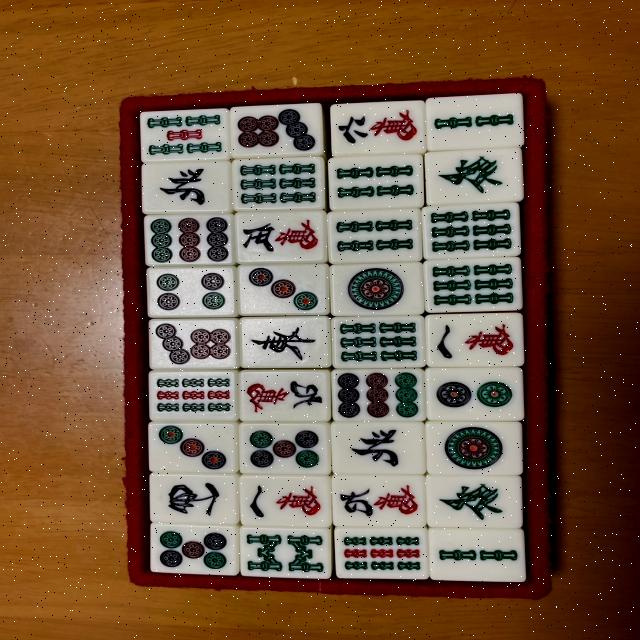bamboos_2: (425, 92, 526, 152), (428, 528, 527, 581)
bamboos_4: (324, 153, 424, 209), (327, 207, 422, 265)
bamboos_5: (140, 108, 232, 162)
bamboos_6: (423, 255, 525, 314), (420, 202, 520, 260), (232, 156, 327, 212), (333, 314, 427, 369)
bamboos_8: (239, 528, 335, 580)
bamboos_9: (332, 526, 429, 579), (151, 369, 239, 423)
characters_1: (426, 312, 523, 368), (238, 474, 332, 528)
characters_5: (235, 210, 330, 267)
characters_6: (329, 100, 427, 158)
characters_9: (235, 367, 333, 425), (331, 474, 427, 528)
circles_1: (329, 260, 427, 317), (424, 421, 525, 476)
circles_2: (425, 367, 527, 422)
circles_3: (236, 261, 330, 317), (149, 420, 239, 476)
circles_4: (147, 264, 237, 318)
circles_5: (235, 422, 338, 476), (149, 525, 242, 575)
circles_7: (231, 100, 325, 159), (151, 317, 241, 371)
circles_9: (331, 368, 425, 422), (144, 212, 234, 266)
east: (239, 315, 333, 371)
green: (422, 148, 525, 206), (426, 475, 524, 528)
north: (331, 420, 426, 476), (142, 160, 235, 216)
west: (148, 472, 240, 528)
